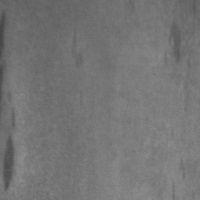inclusion: (0, 89, 24, 194), (161, 17, 189, 68), (64, 31, 87, 70), (172, 155, 190, 183)
